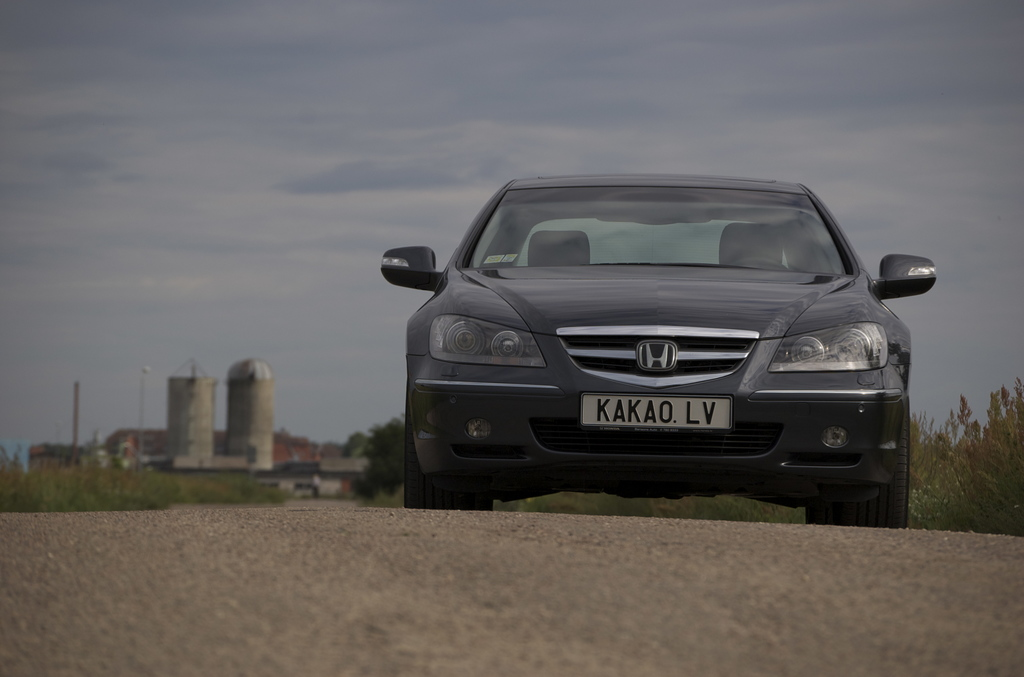Car: (364, 178, 942, 525)
